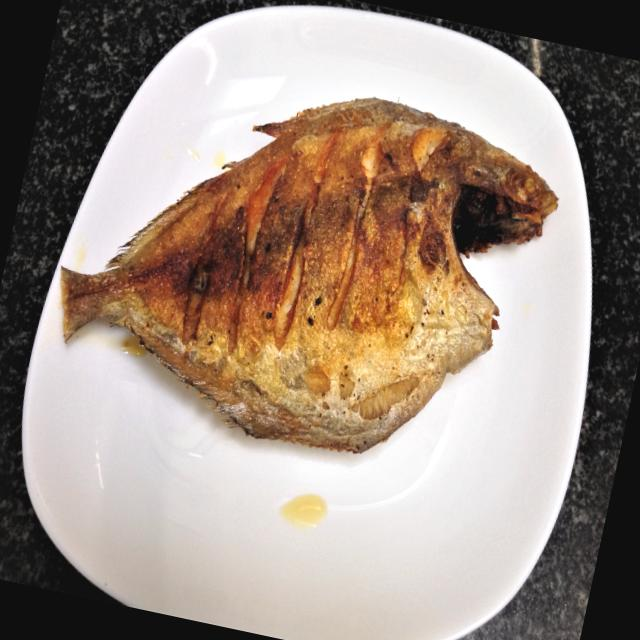ca chien: (61, 98, 556, 451)
